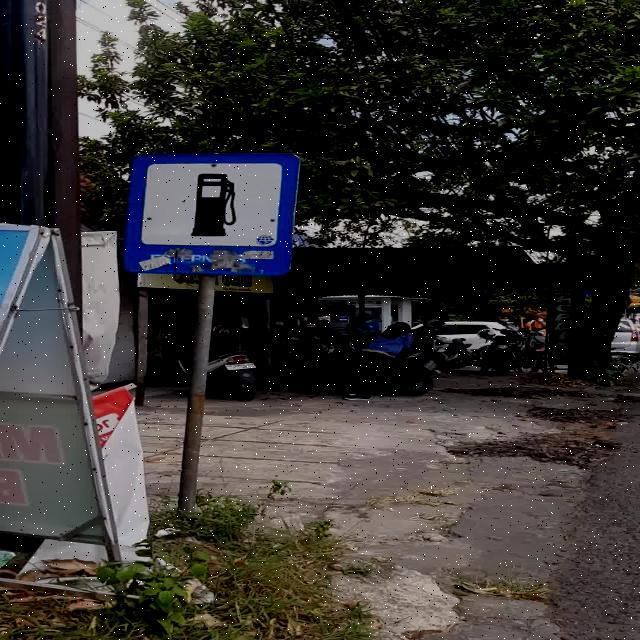Pom Bensin: (123, 152, 300, 276)
